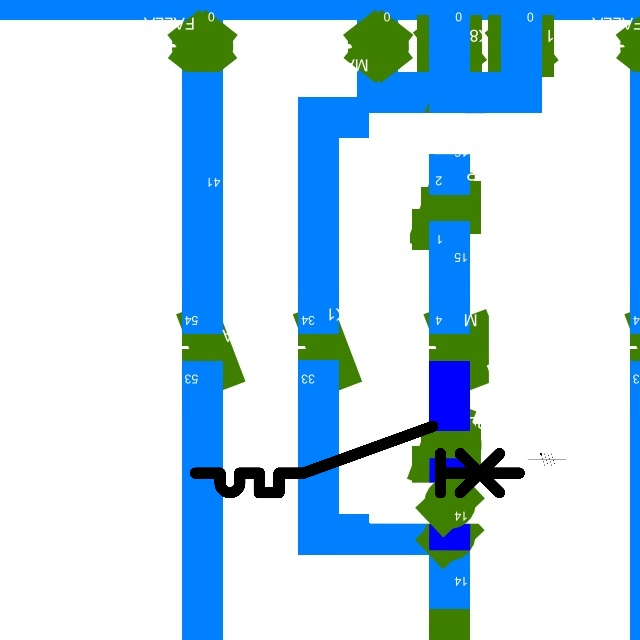interruptor_termomagnetico: (187, 418, 528, 501)
